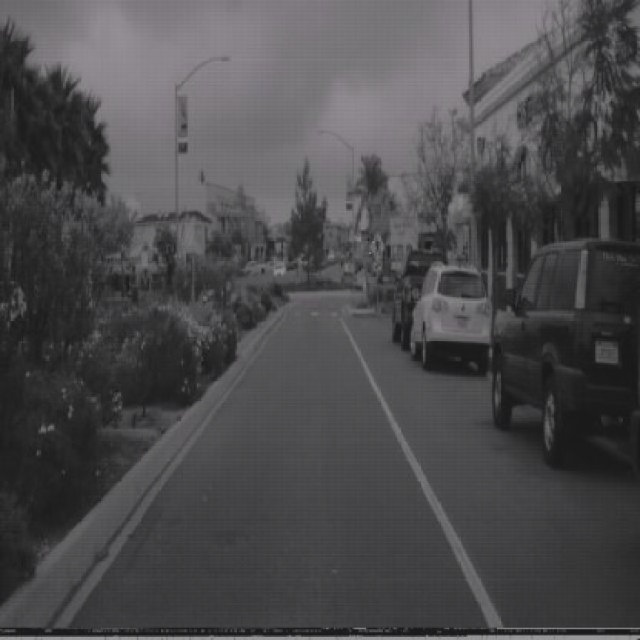pedestrianCrossing: (368, 229, 386, 263)
